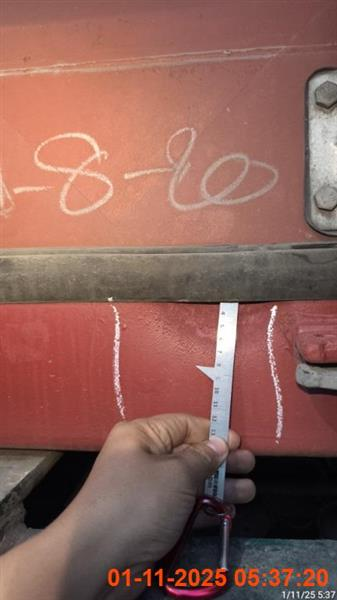dent: (0, 2, 335, 468), (0, 412, 257, 599)
